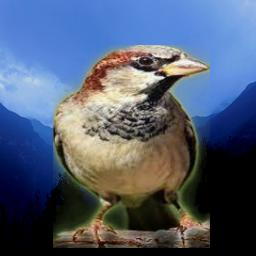Sparrow: (53, 45, 210, 248)
